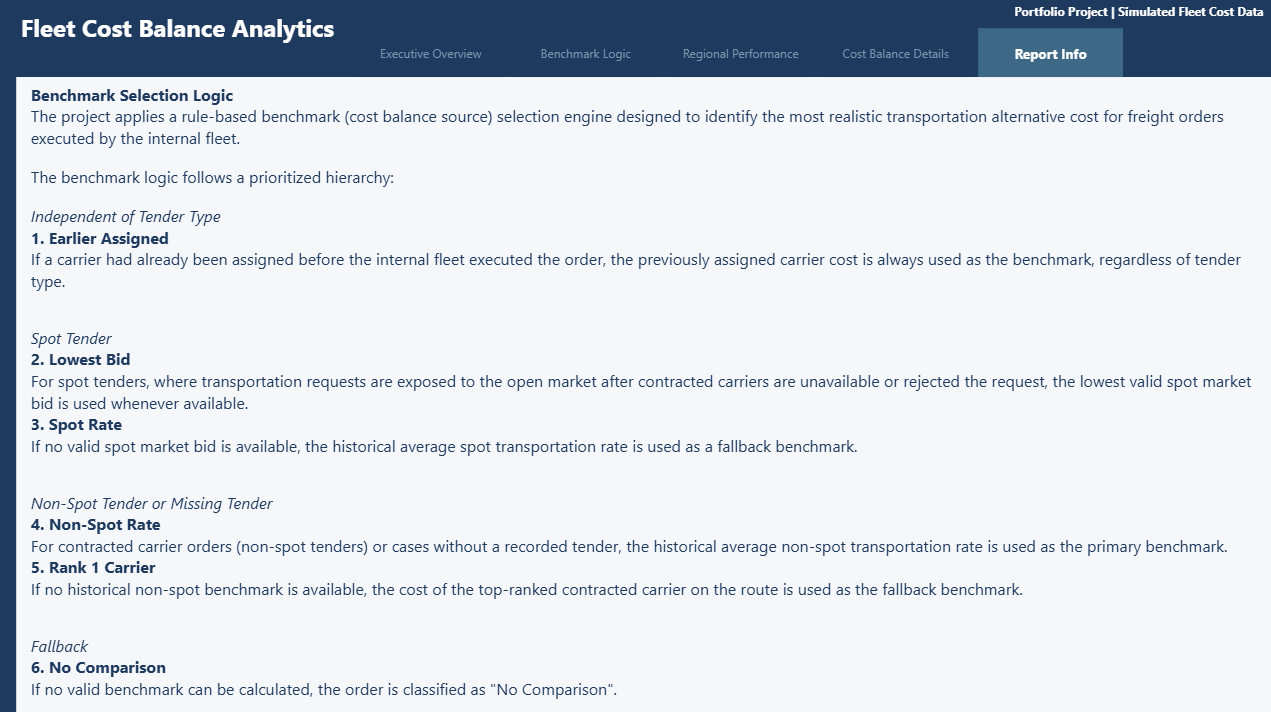

What the dashboard file says about the page in this screenshot:
{"tool":"powerbi","page":{"name":"Report Info","canvas":[1280,720],"ordinal":4},"visuals":[{"type":"shape","box":[0,0,1280.3,80],"z":0},{"type":"textbox","box":[19.2,10,332.1,67.2],"z":1000},{"type":"textbox","box":[1012.4,0,267.6,39.8],"z":2000},{"type":"pageNavigator","box":[360.9,31,661.4,49.4],"z":3000},{"type":"textbox","box":[0,80.7,1280,640],"z":4000}]}

Visuals, with their boxes on the page's 1280x720 design canvas (x1, y1, x2, y2). These are canvas units, not pixel positions in the 1271x712 screenshot, which may show the page scaled, cropped or inside an application window:
shape: 0/0/1280/80
textbox: 19/10/351/77
textbox: 1012/0/1280/40
pageNavigator: 361/31/1022/80
textbox: 0/81/1280/721
